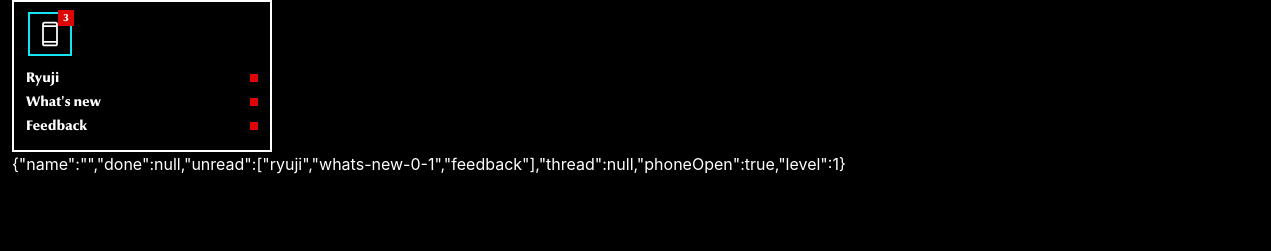
Scenario: PhoneWidget › opening a thread shows its messages and clears its unread mark
Click the button "Ryuji": (142, 78) [26,66,258,90]
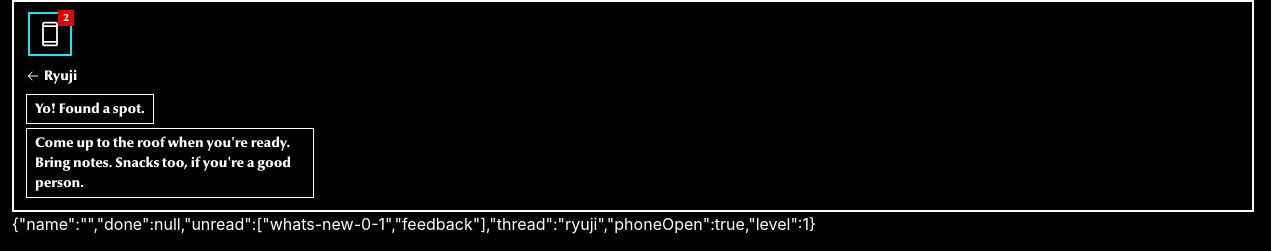
expect the text "Yo! Found a spot." is shown: met, box [26,94,154,124]
